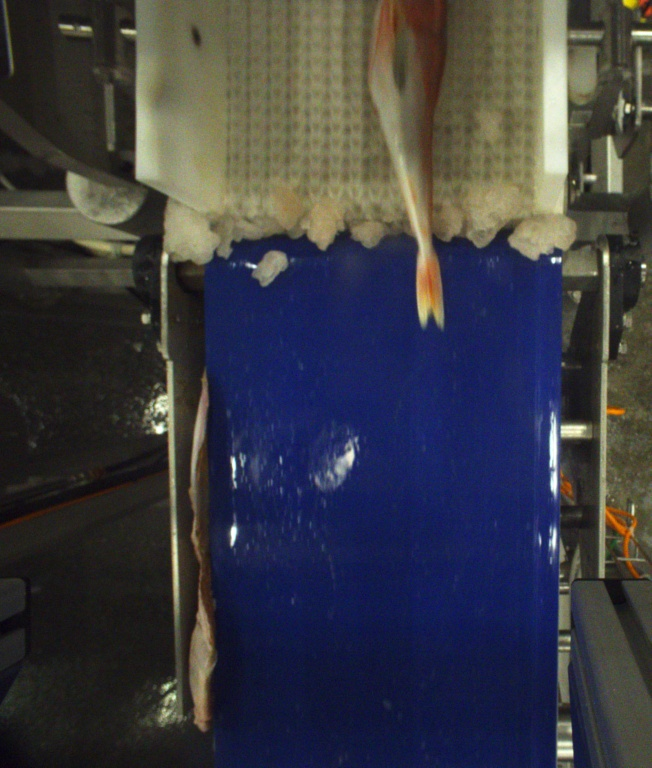GUU: (367, 0, 446, 331)
